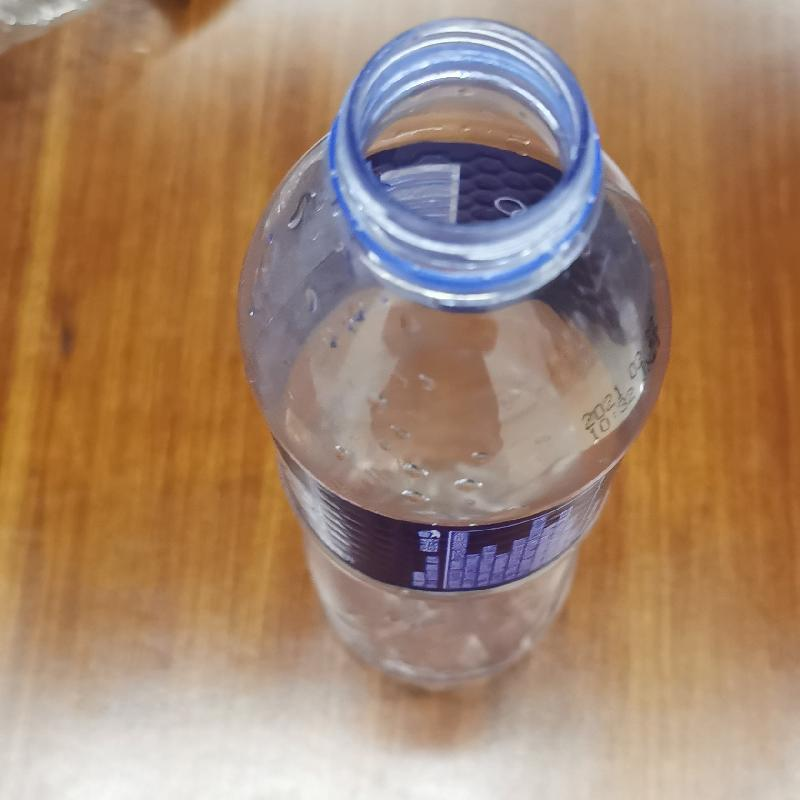bottles: (231, 14, 673, 700)
